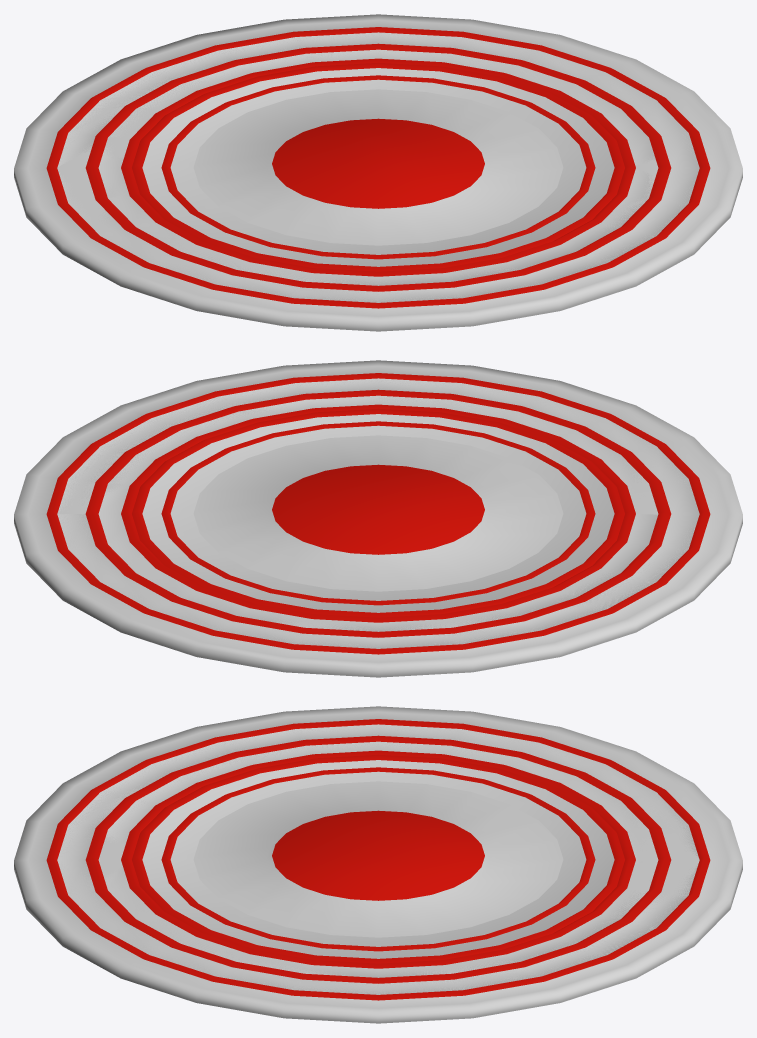
File: RangeStyle3.fbx
The picture shows the model from 3 angles, top to bottom: view 1: azimuth 30°, elevation 25°; view 2: azimuth 150°, elevation 25°; view 3: azimuth 270°, elevation 25°; orthographic projection.
Visible parts, largest first — view 1: Cube.002, Cube.004, Cube.001, Cube; view 2: Cube.002, Cube.004, Cube.001, Cube; view 3: Cube.002, Cube.004, Cube.001, Cube.
Boxes of the visible parts, x1=… form: Cube.002: x1=28, y1=20, x2=728, y2=316; Cube.004: x1=14, y1=14, x2=742, y2=331; Cube.001: x1=57, y1=33, x2=697, y2=302; Cube: x1=52, y1=27, x2=704, y2=303; Cube.002: x1=28, y1=366, x2=728, y2=662; Cube.004: x1=14, y1=360, x2=742, y2=677; Cube.001: x1=57, y1=379, x2=696, y2=648; Cube: x1=52, y1=373, x2=704, y2=649; Cube.002: x1=28, y1=712, x2=728, y2=1008; Cube.004: x1=14, y1=706, x2=742, y2=1023; Cube.001: x1=59, y1=725, x2=699, y2=994; Cube: x1=52, y1=719, x2=704, y2=995.
Size of the model in its own units: 219 by 4.57 by 219.
